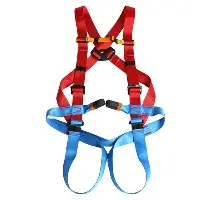safety belt: (50, 6, 176, 194)
